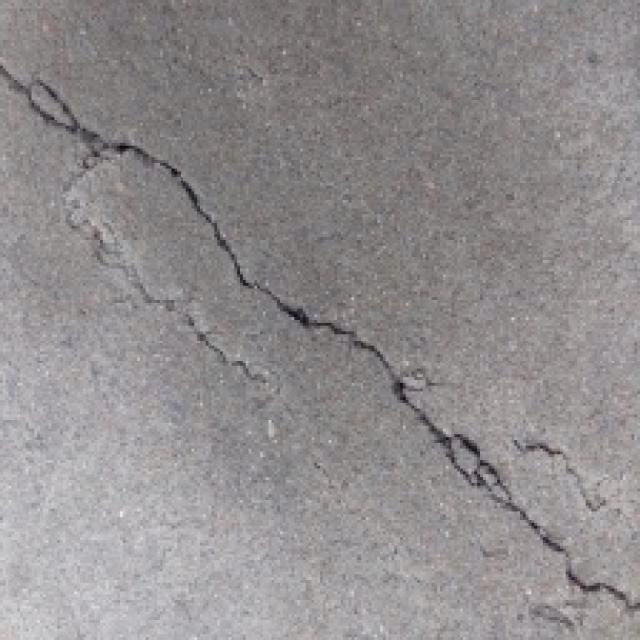SurfaceCrack: (0, 30, 640, 634)
